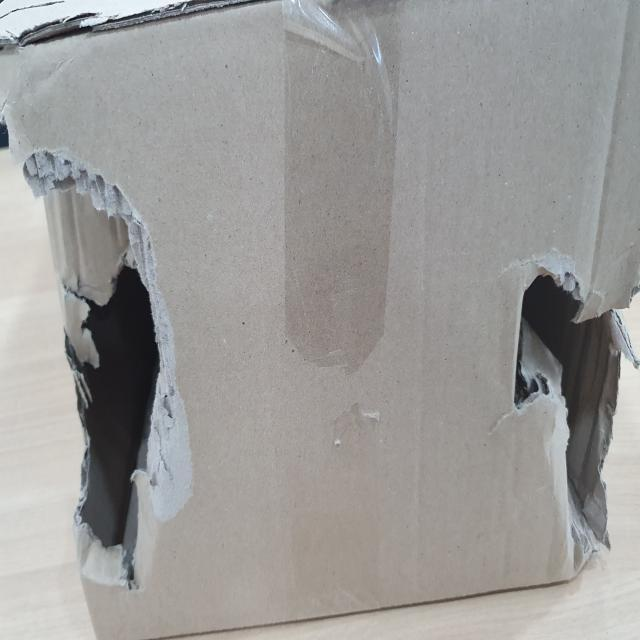hole: (61, 168, 169, 584), (510, 257, 640, 559)
